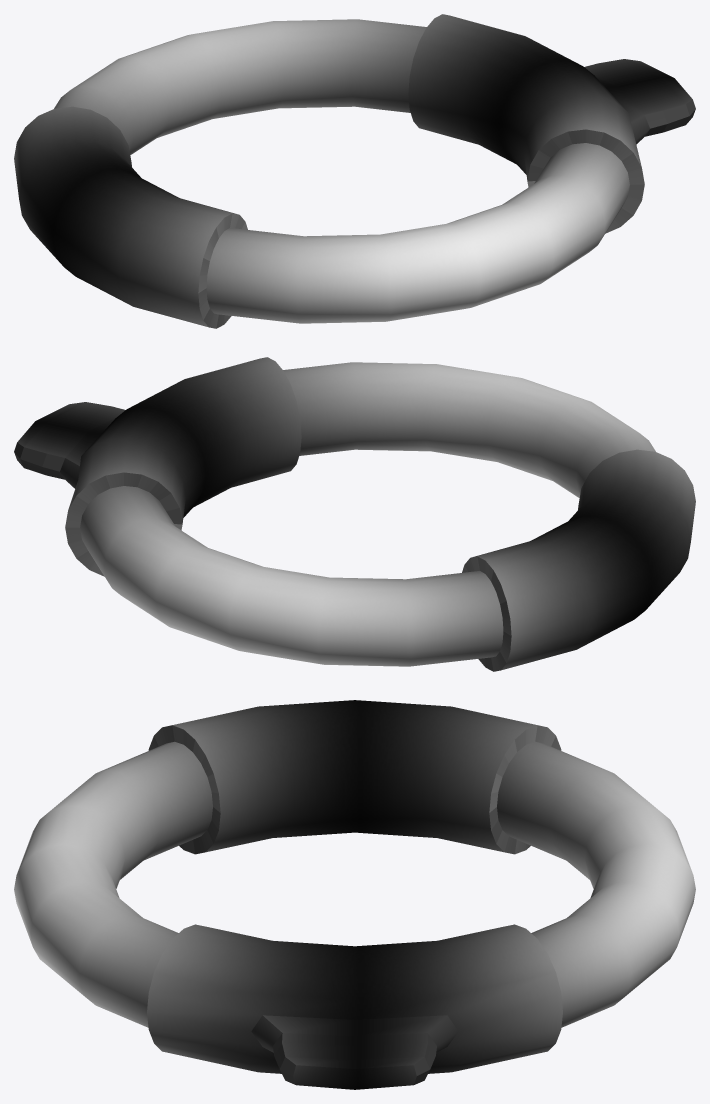
Rendered from bonering.fbx.
3 views of the same model, one above another, from view 1: azimuth 30°, elevation 25°; view 2: azimuth 150°, elevation 25°; view 3: azimuth 270°, elevation 25° (orthographic). The views are drawn at different scales.
Visible parts, largest first — view 1: pTorus1; view 2: pTorus1; view 3: pTorus1.
Boxes of the visible parts, x1=… form: pTorus1: x1=14, y1=14, x2=695, y2=328; pTorus1: x1=14, y1=357, x2=695, y2=671; pTorus1: x1=14, y1=700, x2=695, y2=1089.
Bounding box in the file's own units: 14.31 × 2.36 × 12.03.
1 material, 1 textured.
